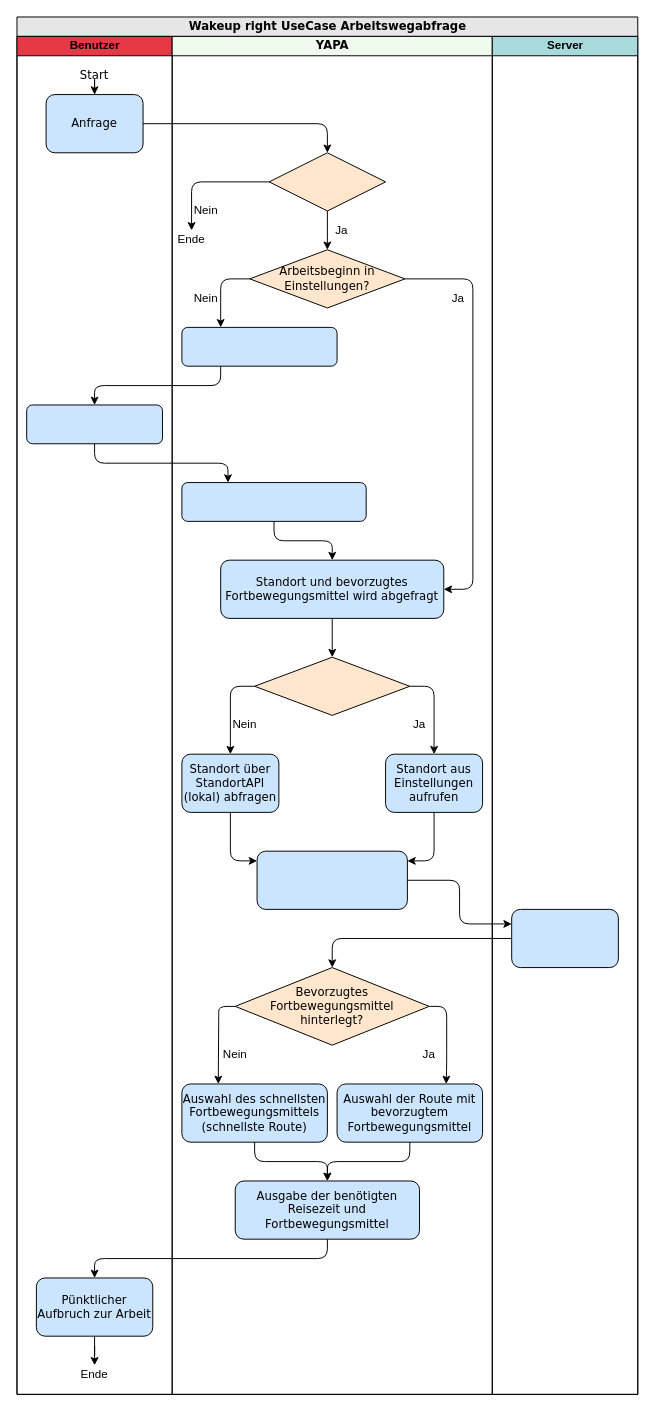
This 655x1411 diagram has some shape labels left out. The centre of each missing label's shape, as x and y in pixels:
"Abfrage des Arbeitsbeginn" goes at (x=259, y=346).
"Angabe einer Uhrzeit" goes at (x=94, y=424).
"Fällt Schlagwort?" goes at (x=327, y=181).
"Hinterlegen des Arbeitsbeginn in Einstellungen" goes at (x=273, y=501).
"Routen und ihre Dauer finden" goes at (x=564, y=938).
"Standort in Einstellungen?" goes at (x=332, y=685).
"Verbindungen abfragen (Bahn, Auto und zu Fuß)" goes at (x=331, y=879).
